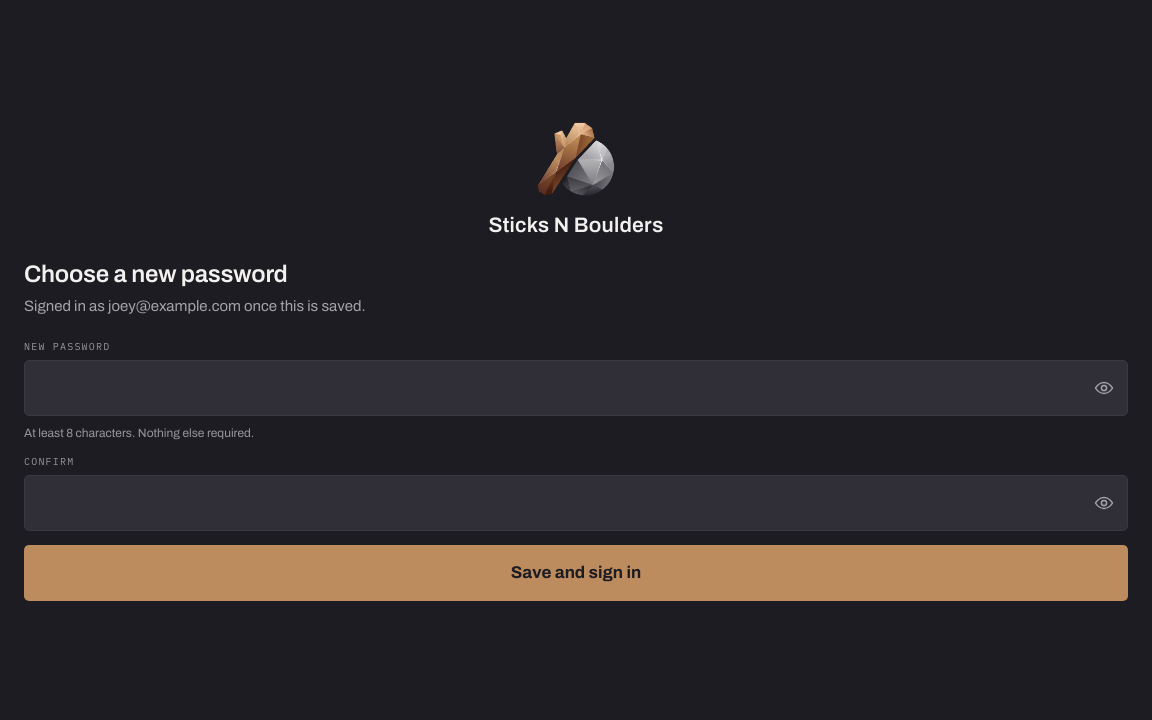
Test: a link that has been used or has expired › keeps the form when the problem is the connection, not the link
Type "hunter2222" into the password field labelled "New password" at x=576, y=388, box [24,360,1128,416]
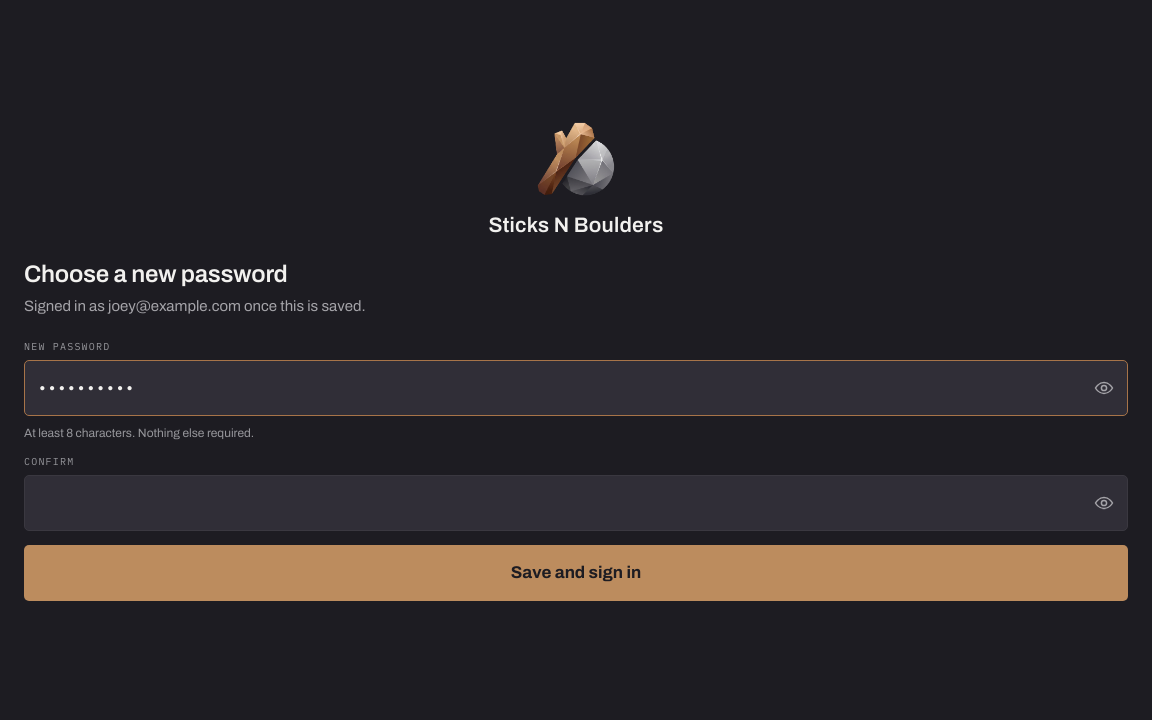
Type "hunter2222" into the password field labelled "Confirm" at x=576, y=503, box [24,475,1128,531]
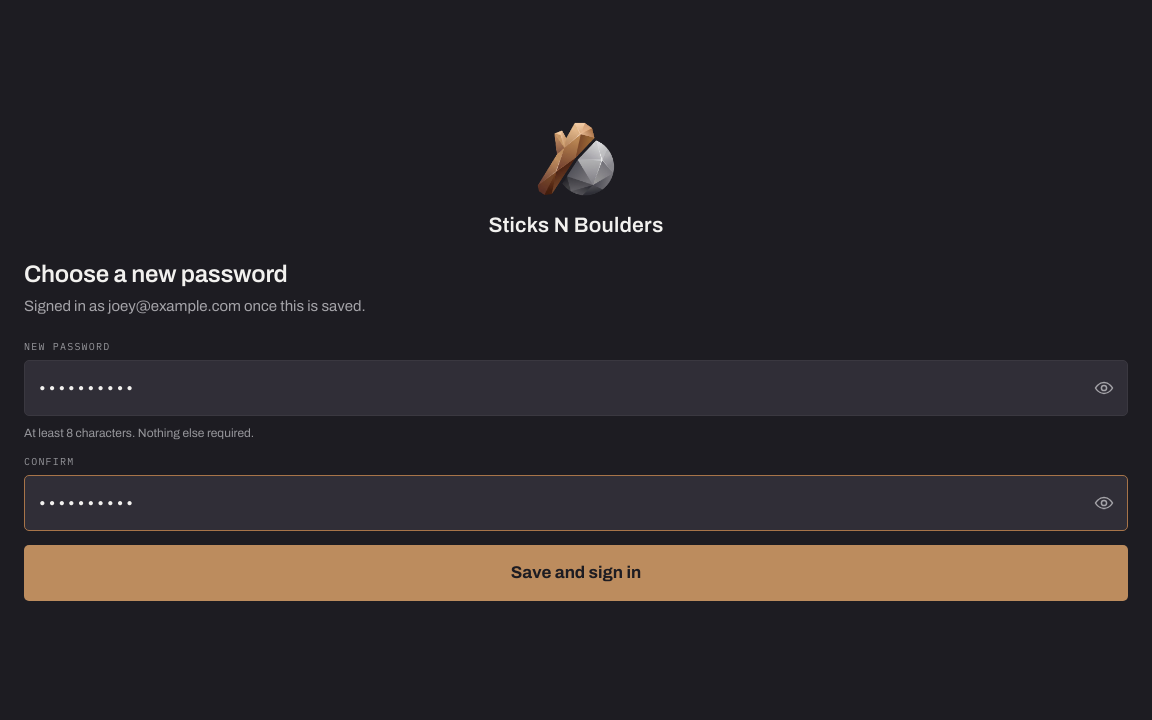
Click the button "Save and sign in" at x=576, y=573, box [24,545,1128,601]
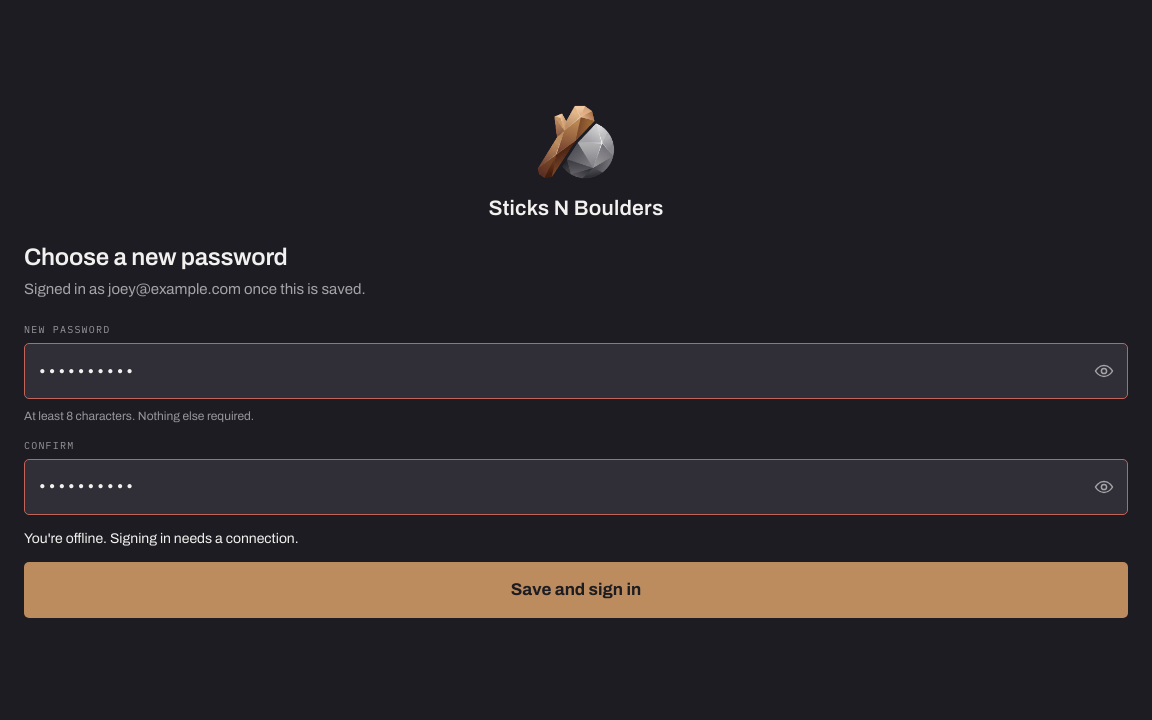
Expected: the button "Save and sign in" is shown, [24,562,1128,618]
Now the message shows "offline", box [24,531,299,546]
